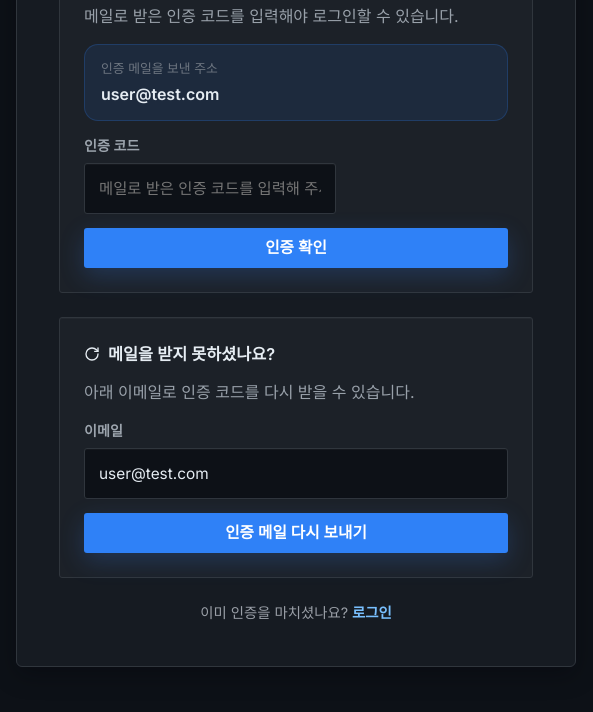
Test case: VerifyEmail 페이지 › 이메일 인증 메일 재전송 요청이 가능하다
This screenshot has width=593, height=712.
(page scrolled)
Click the button "인증 메일 다시 보내기" at coordinates (296, 533), box [84,513,508,553]
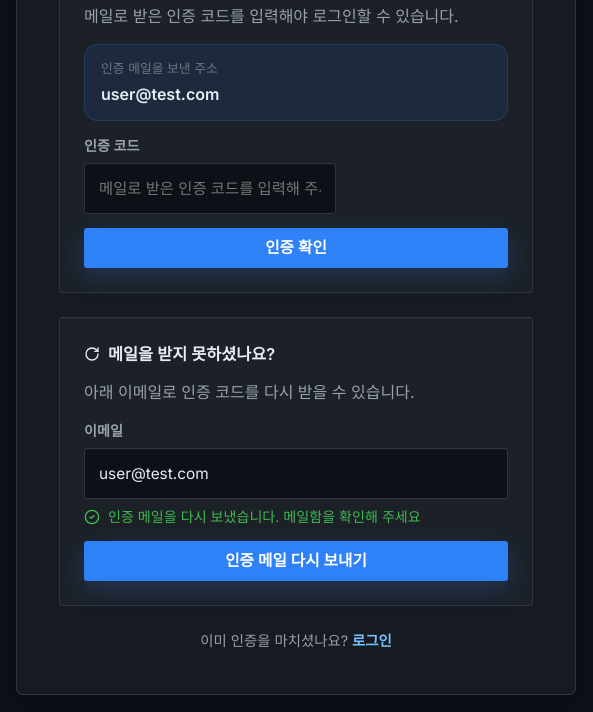
Check: the text "인증 메일을 다시 보냈습니다. 메일함을 확인해 주세요" is shown, box [84,508,421,525]
